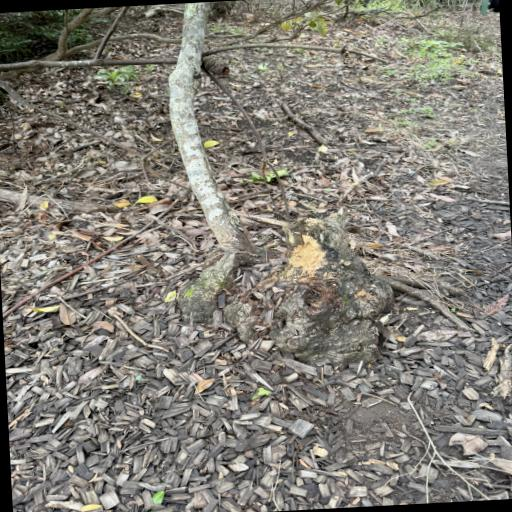tree root: (169, 2, 255, 323), (270, 209, 393, 365), (225, 296, 255, 340)
